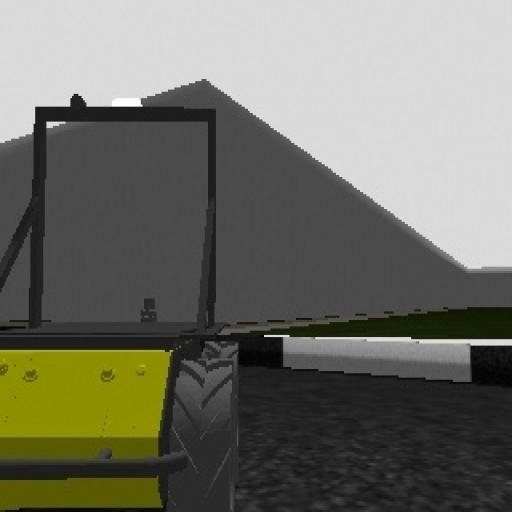huskya200: (0, 58, 271, 512)
